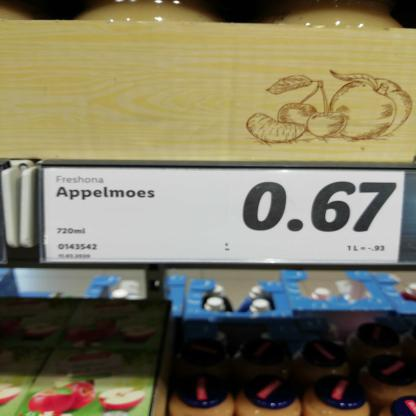prtg: (45, 170, 406, 265)
